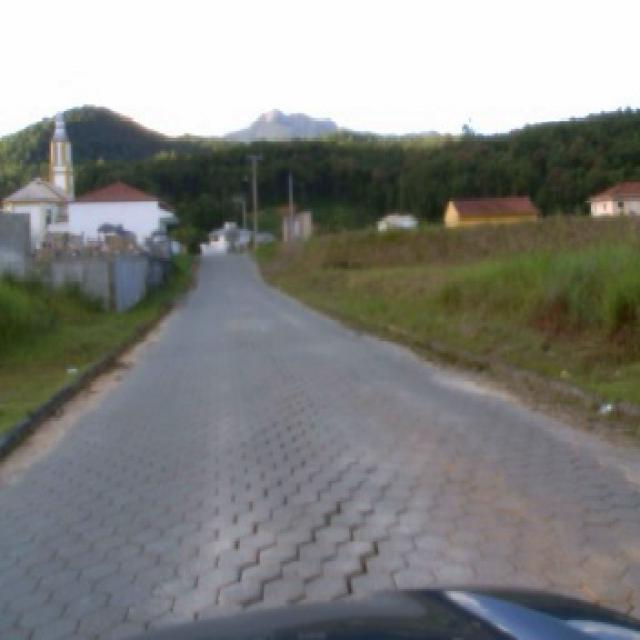Poth-hole: (242, 496, 345, 608), (285, 548, 340, 604), (334, 536, 382, 598), (237, 542, 266, 584), (234, 518, 262, 552), (349, 520, 364, 542), (282, 489, 291, 507), (264, 482, 272, 498), (278, 473, 284, 487)
